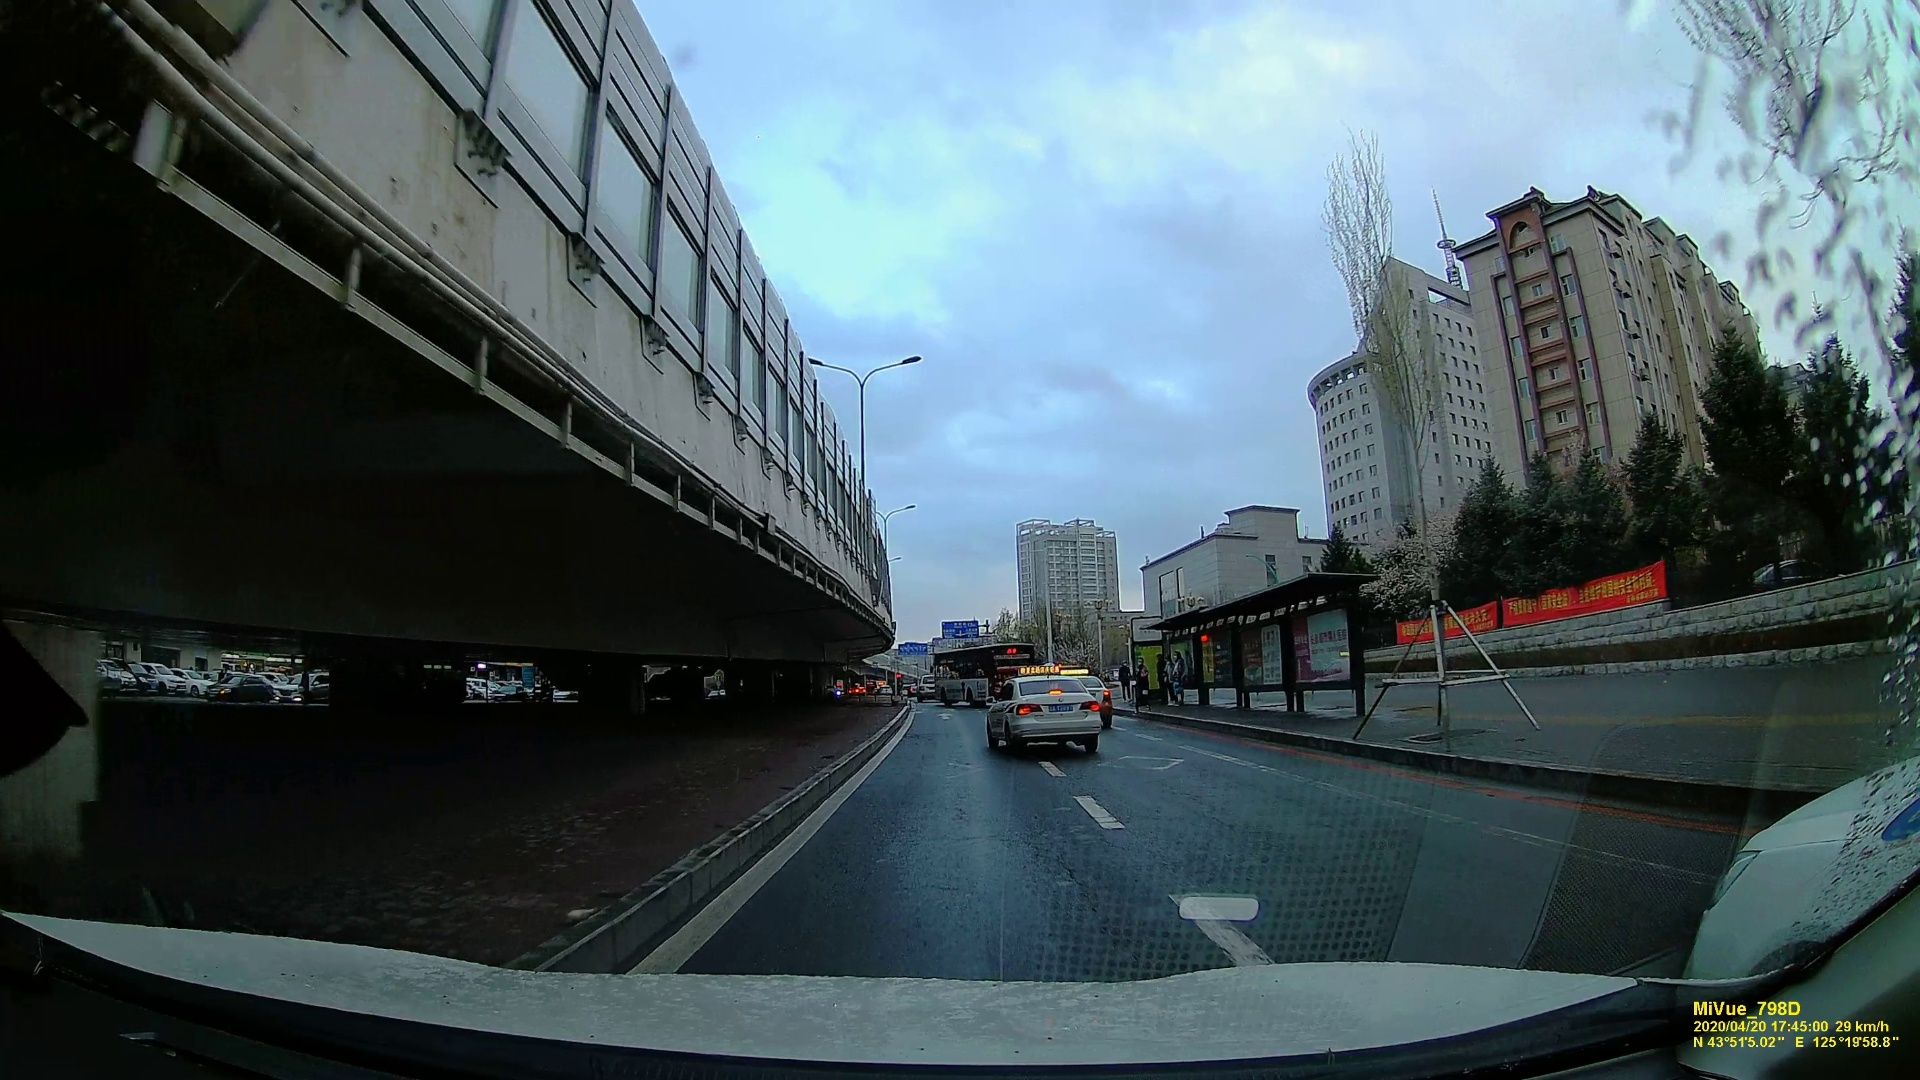bus: (930, 643, 1032, 702)
person: (1132, 658, 1151, 716), (1168, 647, 1185, 705), (1154, 652, 1166, 703), (1115, 660, 1129, 698)
traffic_sign: (942, 620, 976, 636), (896, 643, 926, 653)
vehicle: (985, 673, 1104, 756)
